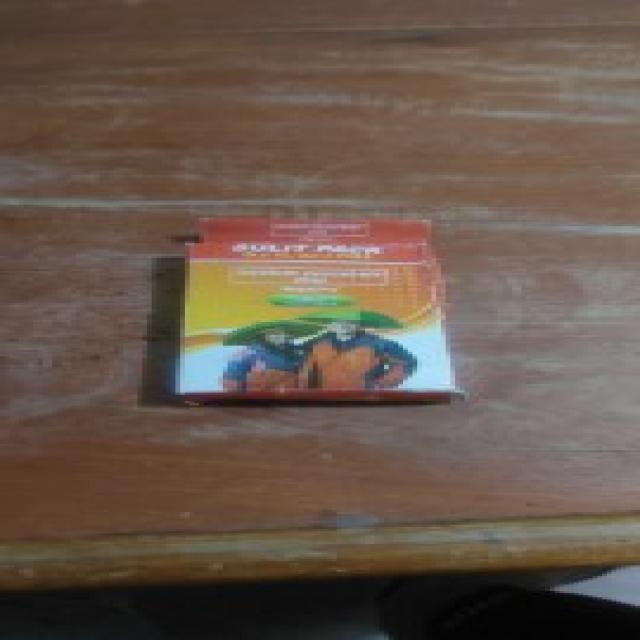Cacat: (169, 217, 450, 409)
